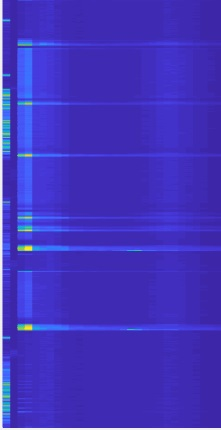leak: (10, 157, 75, 211), (13, 46, 72, 98), (14, 106, 75, 151), (16, 263, 38, 318)
